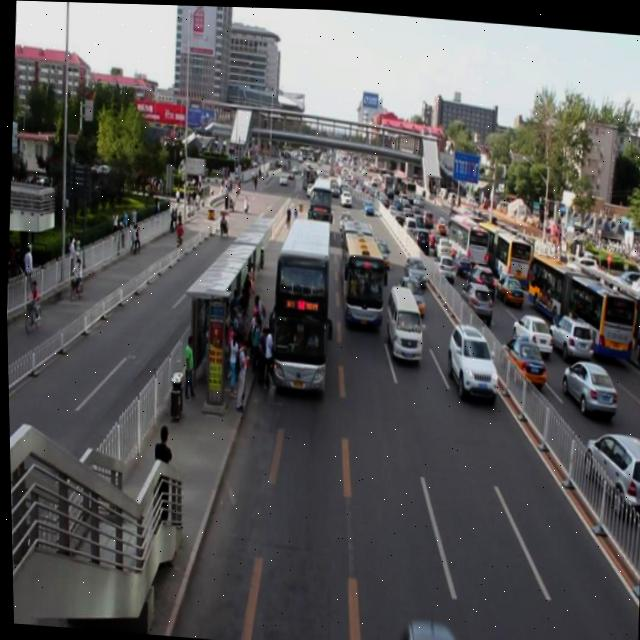car: (444, 320, 496, 397), (396, 272, 423, 315), (401, 254, 424, 289), (367, 234, 388, 271), (339, 188, 351, 208), (338, 210, 349, 229), (361, 198, 373, 215), (304, 178, 315, 195), (329, 177, 338, 195)
truck: (382, 285, 423, 359)
van: (268, 213, 331, 396), (336, 216, 385, 331), (306, 174, 331, 234)
